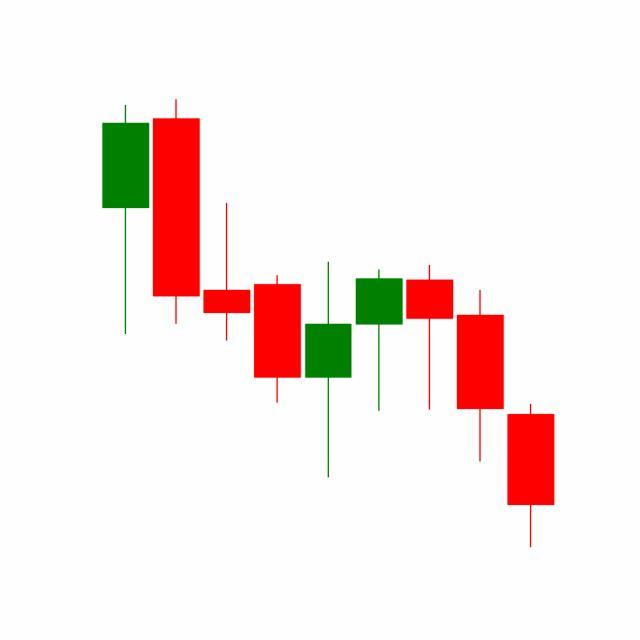Hikkake Pattern: (302, 258, 555, 549)
